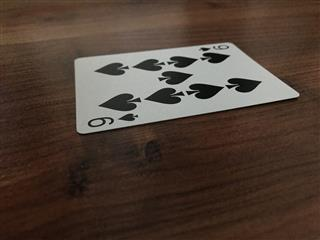NineOfSpades: (73, 41, 299, 134)
